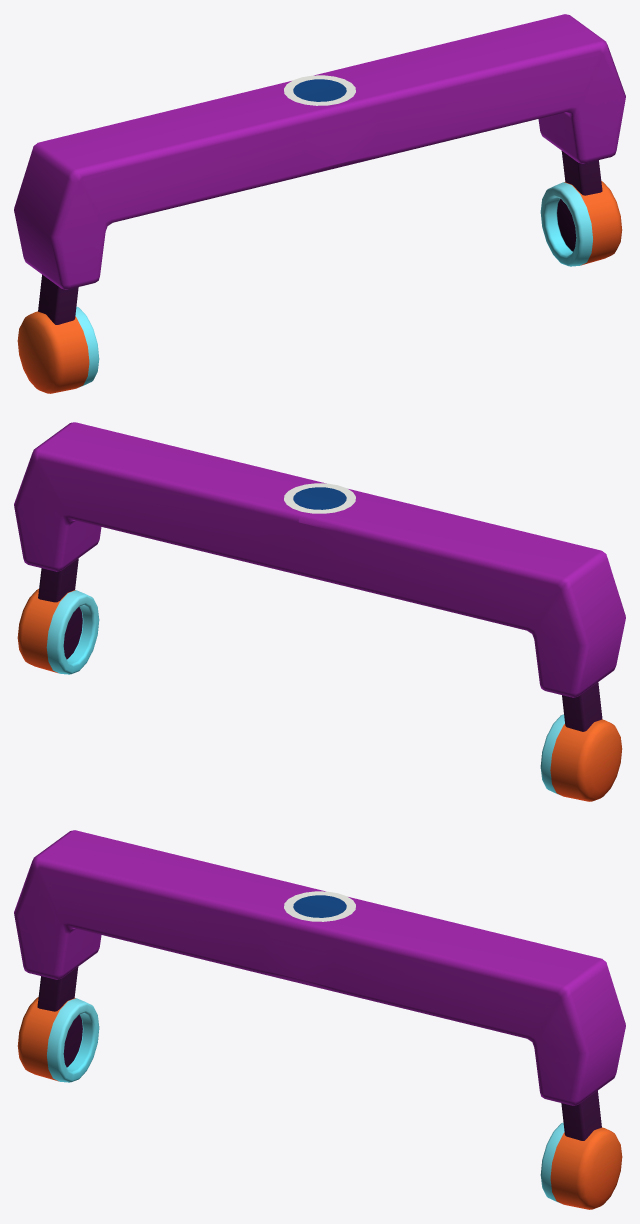
The picture shows the model from 3 angles, top to bottom: view 1: azimuth 30°, elevation 25°; view 2: azimuth 150°, elevation 25°; view 3: azimuth 330°, elevation 25°; orthographic projection.
Visible parts, largest first — view 1: shape2_4, top_cycle; view 2: shape2_4, top_cycle; view 3: shape2_4, top_cycle.
Boxes of the visible parts, <box> form: shape2_4: <box>14,14,625,393</box>; top_cycle: <box>284,75,355,105</box>; shape2_4: <box>14,422,625,801</box>; top_cycle: <box>284,483,355,513</box>; shape2_4: <box>14,830,625,1209</box>; top_cycle: <box>284,891,355,921</box>.
Size of the model in its own units: 38.95 by 15.06 by 5.
